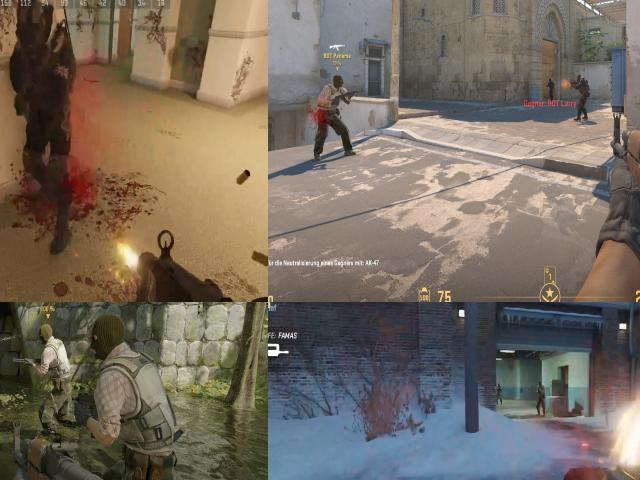CT: (6, 22, 81, 132), (576, 73, 589, 119), (548, 78, 554, 100)
CT-Head: (4, 6, 51, 59), (576, 74, 582, 82), (549, 78, 552, 82)
Dead: (314, 74, 350, 157), (535, 450, 609, 480)
T: (72, 305, 187, 480), (34, 321, 74, 447), (536, 374, 547, 416)
T-Head: (87, 311, 130, 368), (34, 321, 59, 352), (334, 75, 344, 87), (537, 381, 544, 390)
